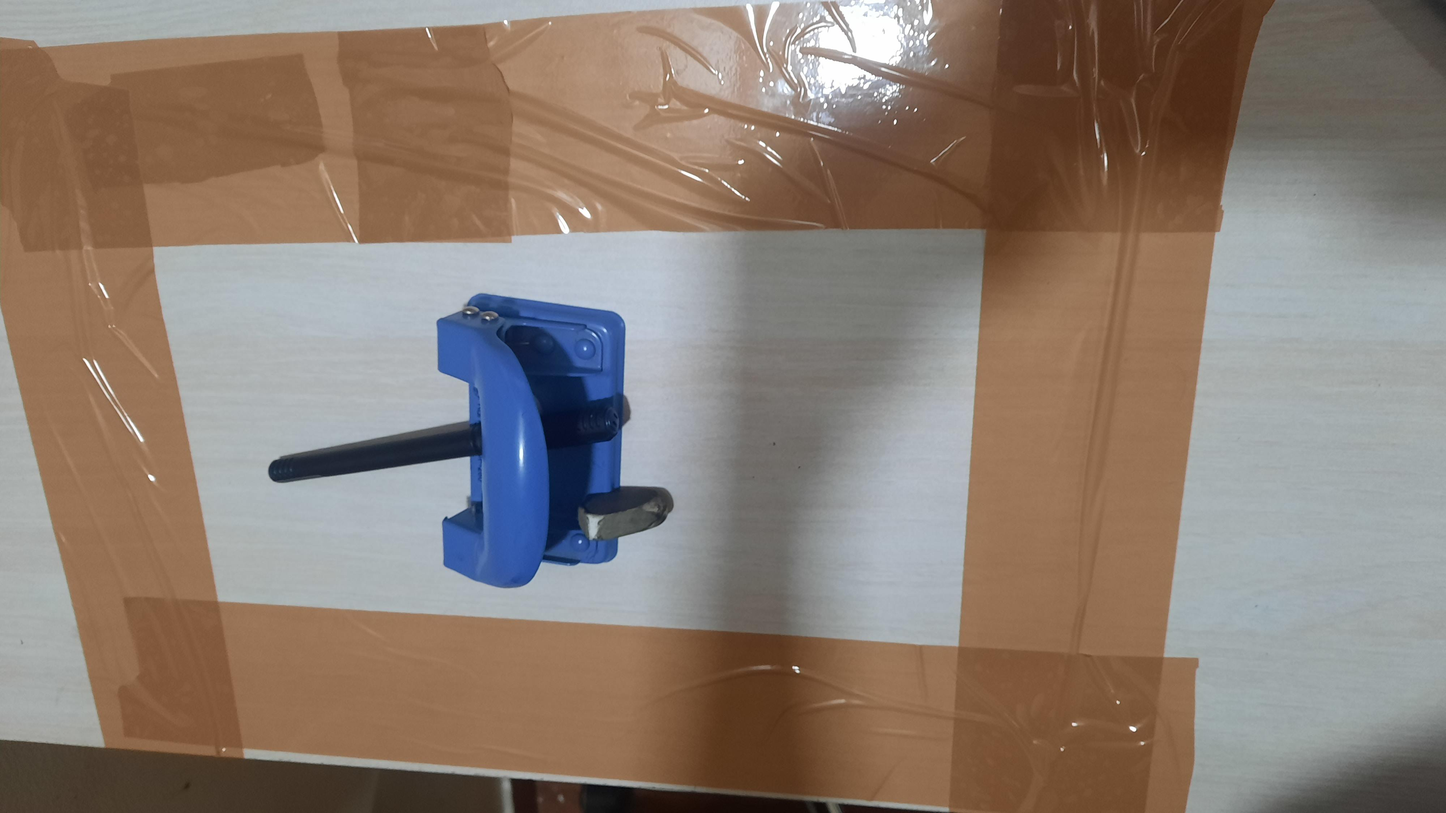Eraser: (577, 486, 674, 543)
Pen: (268, 394, 622, 483)
Punch: (436, 292, 627, 589)
